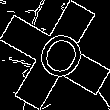O_SW: (24, 22, 86, 88)
